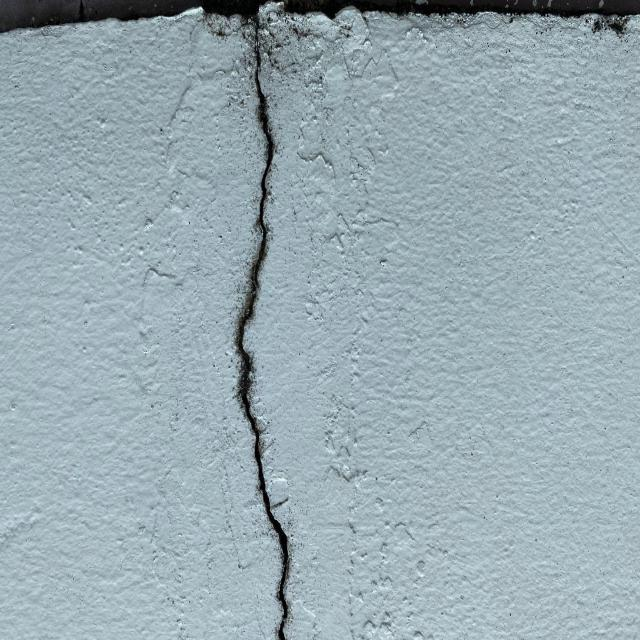SurfaceCrack: (190, 0, 347, 613)
